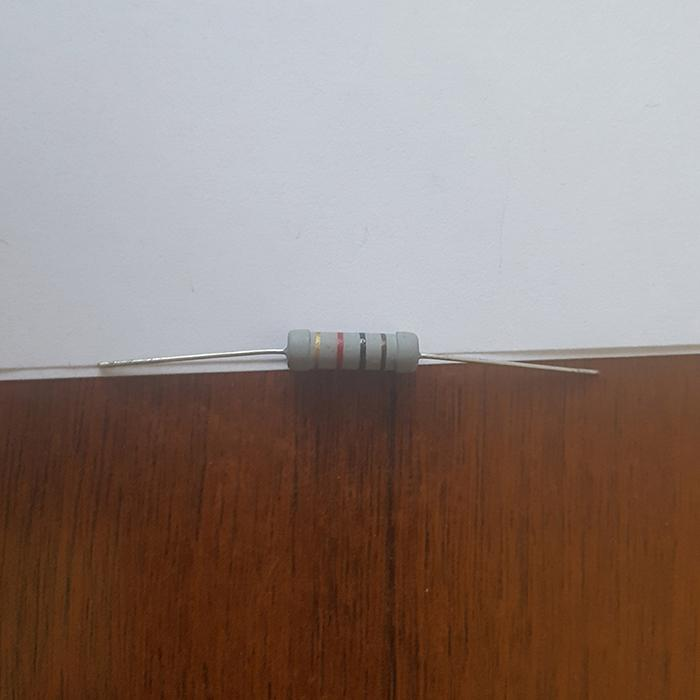resistor: (283, 328, 421, 373)
